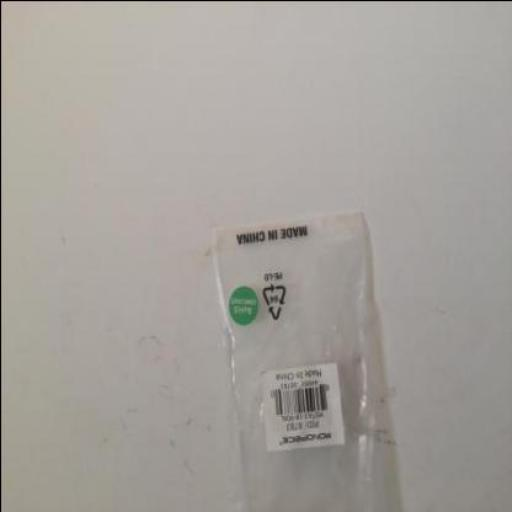plastic: (212, 210, 378, 511)
